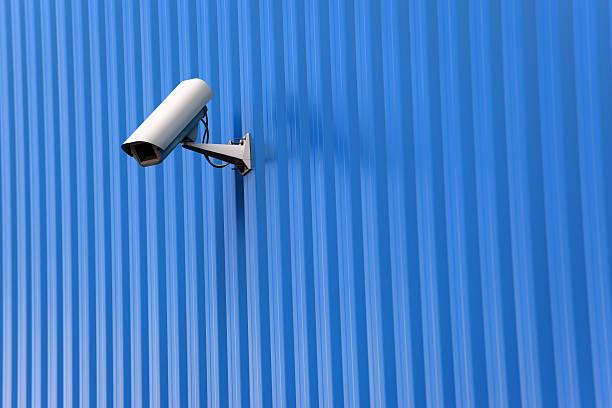camera: (105, 75, 270, 197)
